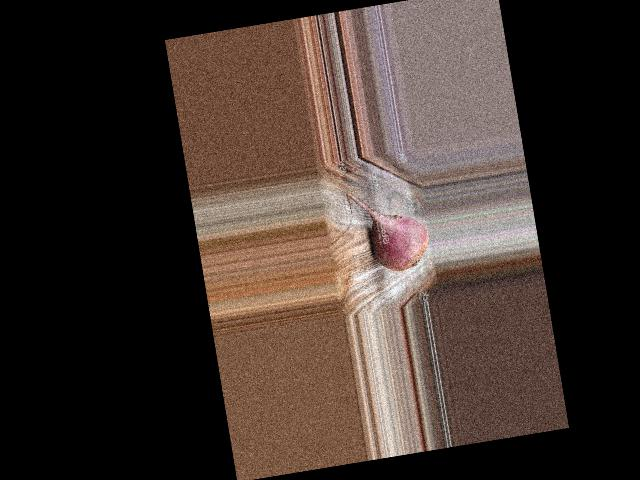beet: (346, 181, 433, 277)
